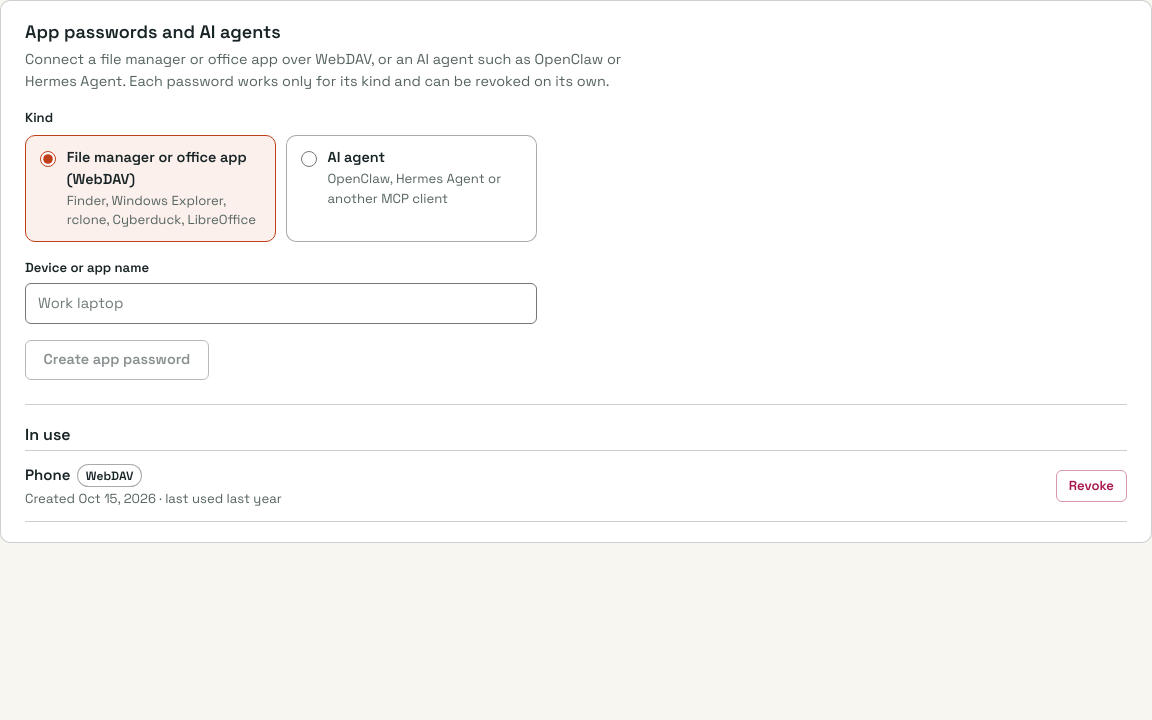
Test: AppPasswords › does nothing when the revoke is not confirmed
Click the button "Revoke" at (1091, 486), box [1056,470,1127,502]
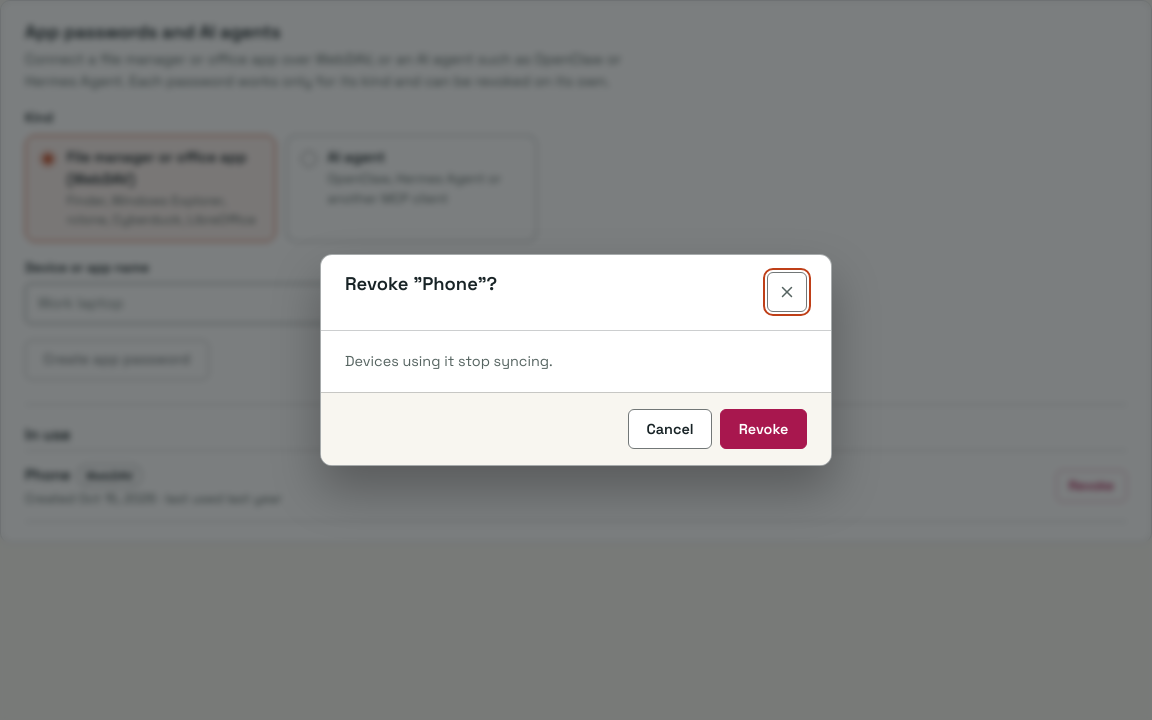
Click the button "Cancel" at (670, 429), box [628,409,712,449]
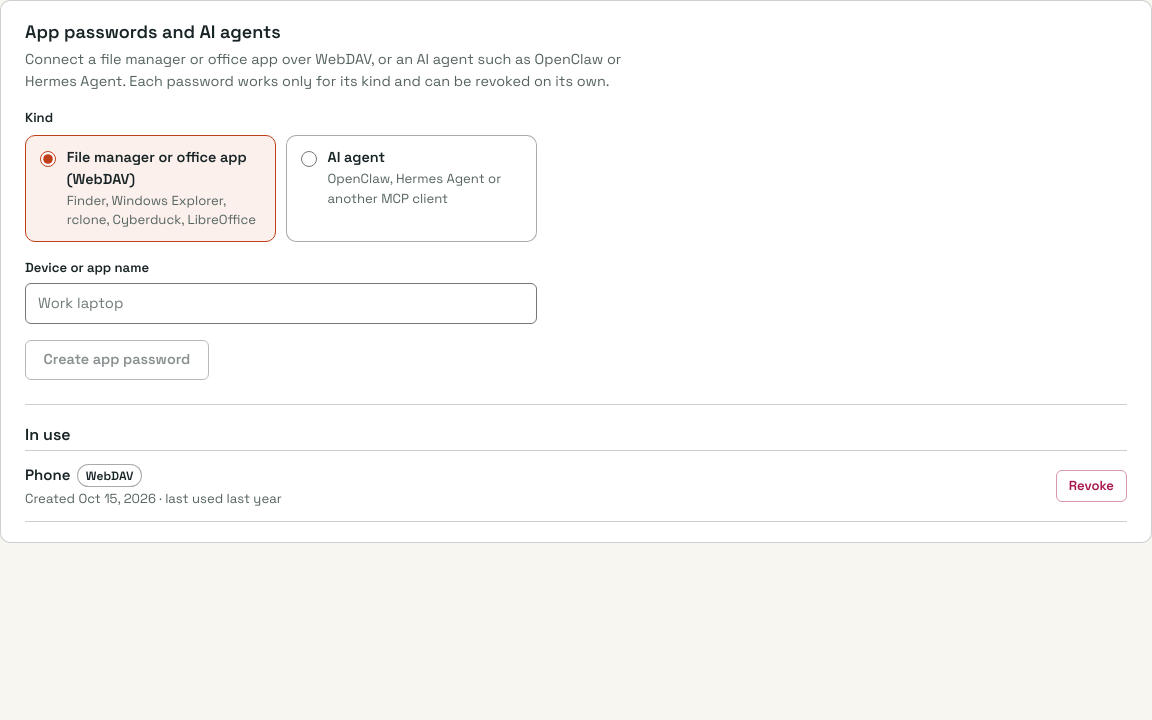
Now the dialog is gone
